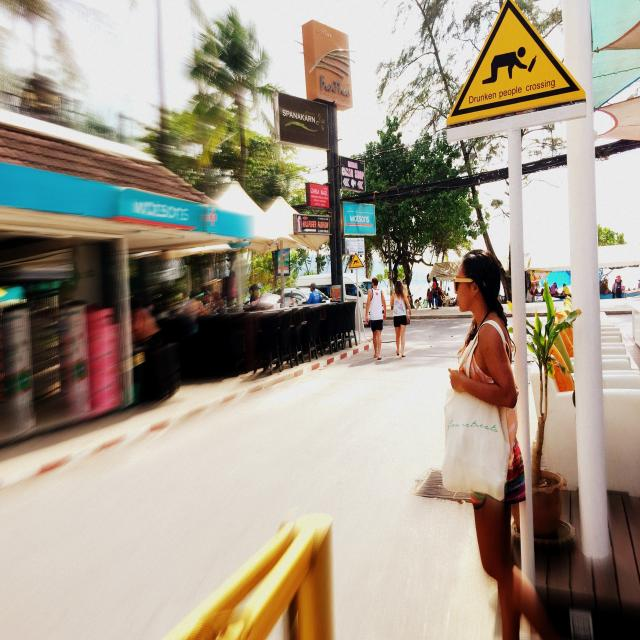body: (437, 240, 567, 640), (101, 278, 228, 339), (365, 277, 387, 360), (390, 280, 412, 358), (202, 289, 230, 333), (526, 282, 558, 302), (305, 282, 323, 304), (249, 283, 264, 308), (430, 276, 439, 310), (402, 279, 410, 311), (435, 283, 445, 307), (614, 274, 623, 298), (344, 284, 358, 298), (448, 294, 460, 308), (530, 269, 540, 282), (612, 278, 618, 299), (426, 288, 432, 308), (604, 274, 610, 291), (414, 296, 422, 308), (562, 283, 570, 295), (551, 282, 556, 298), (445, 292, 451, 302), (637, 278, 640, 288)
